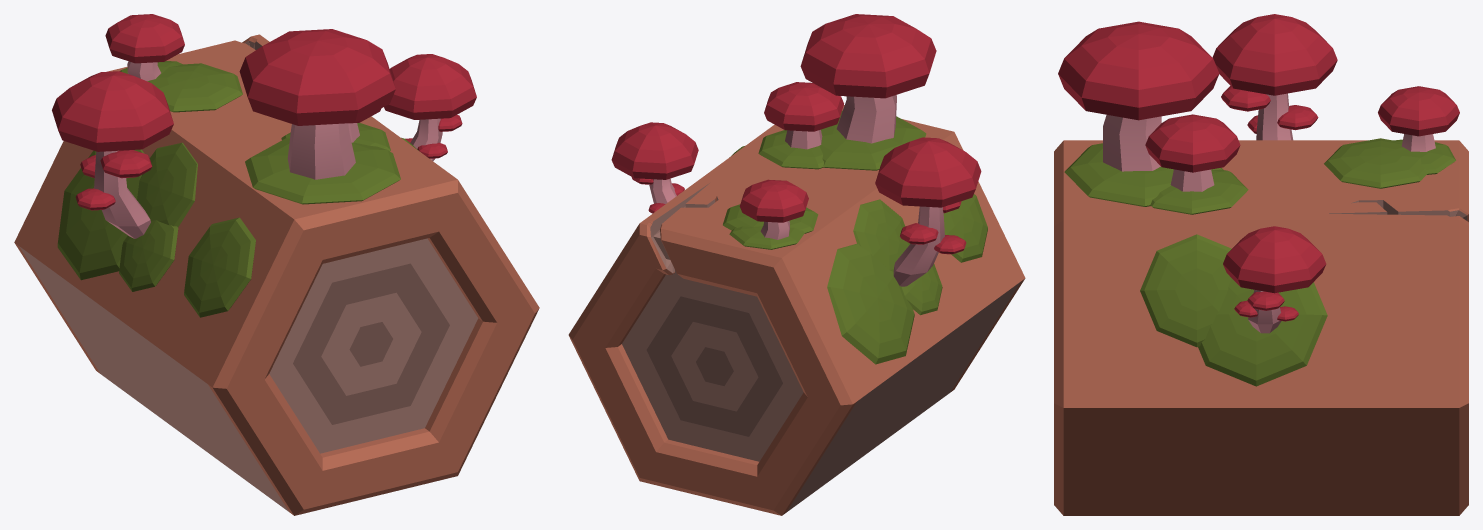
File: Mushy.fbx
The picture shows the model from 3 angles, left to right: view 1: azimuth 30°, elevation 25°; view 2: azimuth 150°, elevation 25°; view 3: azimuth 270°, elevation 25°; orthographic projection. The views are drawn at different scales.
Parts seen in each view (by area): view 1: pCylinder34, pSphere38, pSphere68, pSphere57, pSphere67, pSphere77, pSphere64, pSphere65, pSphere59, pCylinder35, pSphere76, pSphere66 (+5 smaller); view 2: pCylinder34, pSphere38, pSphere64, pSphere68, pSphere77, pSphere75, pSphere57, pSphere65, pCylinder35, pSphere76, pCylinder43, pSphere67 (+7 smaller); view 3: pCylinder34, pSphere38, pSphere62, pSphere68, pSphere61, pSphere77, pSphere75, pSphere59, pSphere57, pSphere76, pCylinder35, pSphere58 (+8 smaller).
Part boxes in pixels (x1,y1,x2,y2): pCylinder34: (14, 34, 539, 515); pSphere38: (239, 29, 395, 125); pSphere68: (52, 71, 173, 151); pSphere57: (245, 138, 400, 204); pSphere67: (184, 217, 255, 317); pSphere77: (384, 54, 476, 119); pSphere64: (57, 149, 144, 280); pSphere65: (137, 142, 197, 227); pSphere59: (148, 63, 242, 112); pCylinder35: (287, 123, 355, 179); pSphere76: (105, 14, 184, 63); pSphere66: (119, 220, 178, 291); pCylinder34: (568, 105, 1025, 515); pSphere38: (800, 14, 936, 98); pSphere64: (827, 243, 914, 364); pSphere68: (875, 137, 981, 207); pSphere77: (611, 122, 698, 179); pSphere75: (764, 82, 843, 131); pSphere57: (819, 110, 926, 170); pSphere65: (853, 199, 910, 271); pCylinder35: (836, 95, 896, 143); pSphere76: (739, 179, 808, 222); pCylinder43: (893, 206, 944, 286); pSphere67: (943, 194, 987, 262); pCylinder34: (1054, 140, 1468, 515); pSphere38: (1058, 21, 1219, 120); pSphere62: (1198, 278, 1327, 386); pSphere68: (1212, 14, 1337, 95); pSphere61: (1140, 234, 1231, 347); pSphere77: (1223, 226, 1326, 293); pSphere75: (1145, 114, 1240, 172); pSphere59: (1324, 138, 1427, 188); pSphere57: (1064, 143, 1223, 206); pSphere76: (1378, 86, 1459, 136); pCylinder35: (1103, 115, 1161, 171); pSphere58: (1150, 169, 1248, 214).
Bounding box in the file's own units: 2.53 × 2.53 × 2.2.
